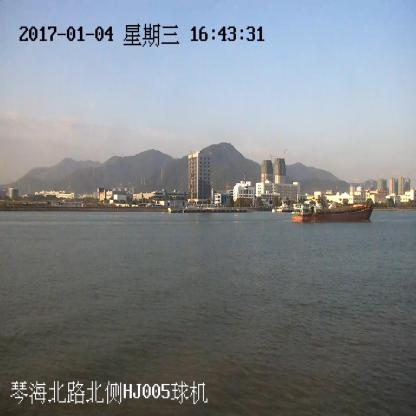Bulk Carrier: (292, 203, 375, 222)
